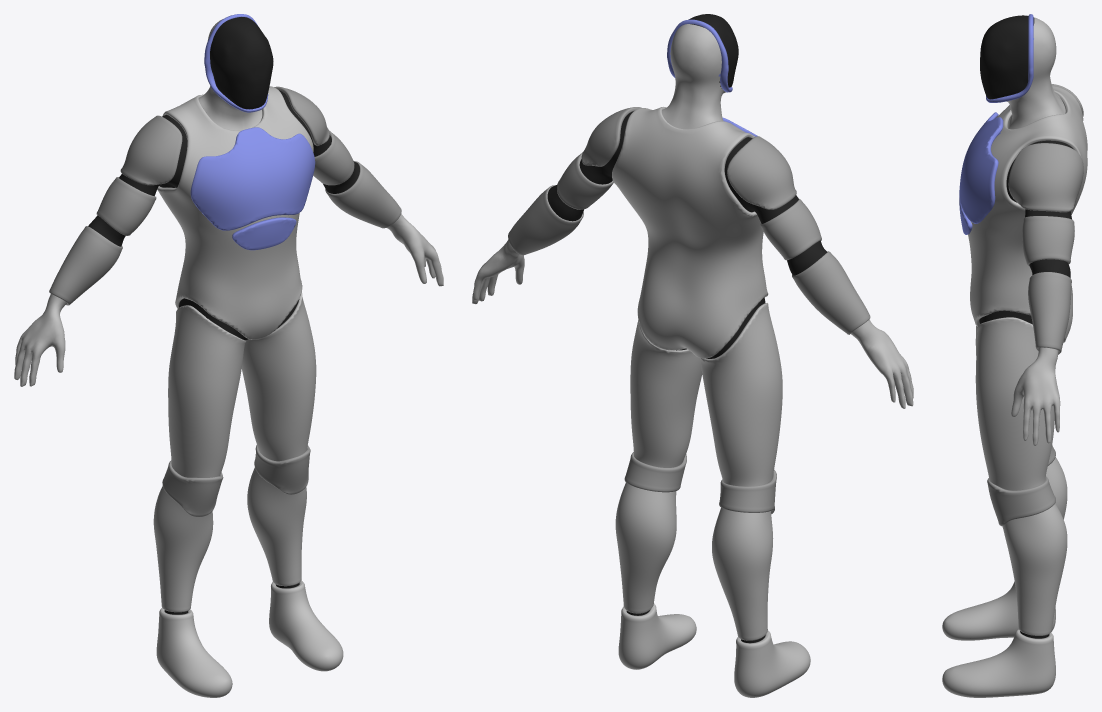
Rendered from Zap 2.0.fbx.
3 renders of one model, left to right at view 1: azimuth 30°, elevation 25°; view 2: azimuth 150°, elevation 25°; view 3: azimuth 270°, elevation 25°, orthographic. The views are drawn at different scales.
Parts seen in each view (by area): view 1: Zap; view 2: Zap; view 3: Zap.
Part boxes in pixels (box(x1,y1,x2,y2)): Zap: box(14, 14, 443, 697); Zap: box(472, 14, 913, 697); Zap: box(942, 14, 1087, 697).
Bounding box in the file's own units: 341 × 494 × 101.
